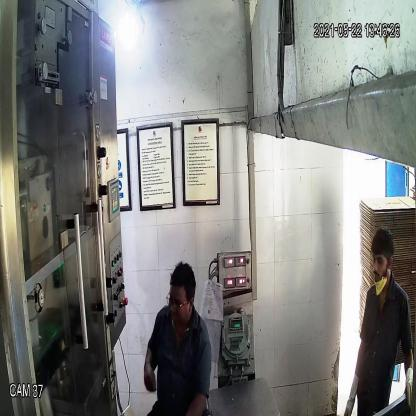goggles: (162, 291, 193, 311)
no_goggles: (369, 252, 392, 270)
